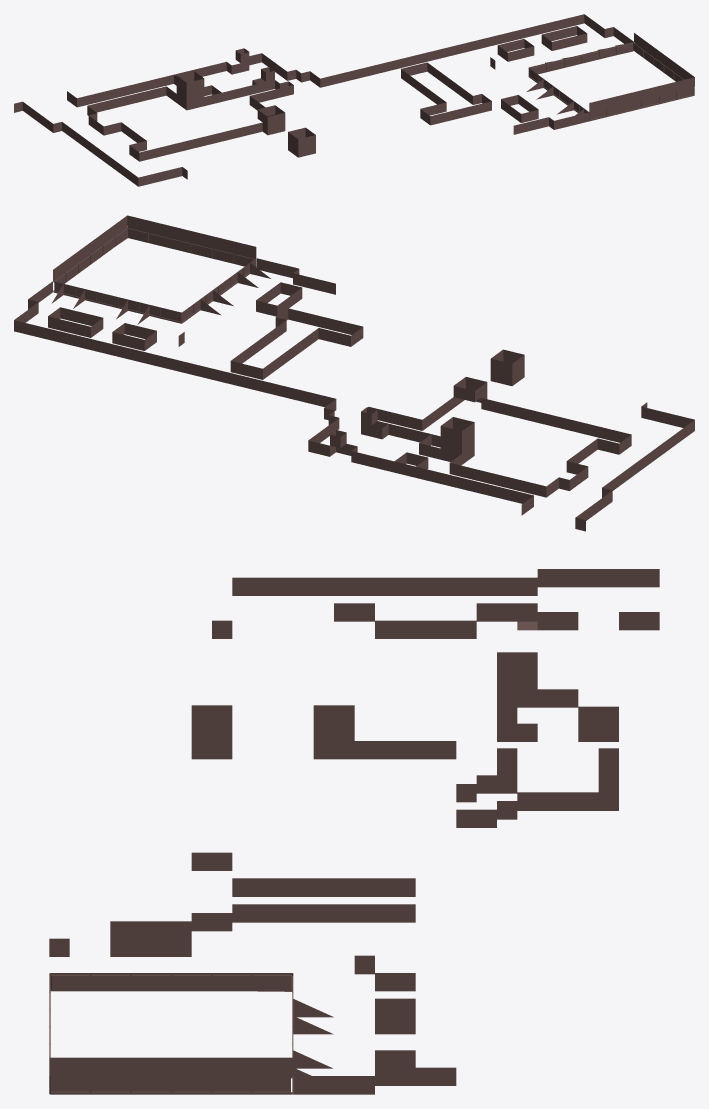
The model's file is GB_Walls.fbx.
3 renders of one model, top to bottom at view 1: azimuth 30°, elevation 25°; view 2: azimuth 150°, elevation 25°; view 3: azimuth 270°, elevation 25°, orthographic. The views are drawn at different scales.
Parts seen in each view (by area): view 1: Platform.003; view 2: Platform.003; view 3: Platform.003.
Boxes of the visible parts, <box> form: Platform.003: <box>14,14,694,186</box>; Platform.003: <box>14,215,694,531</box>; Platform.003: <box>49,569,659,1094</box>.
Bounding box in the file's own units: 18000 × 900 × 9000.
